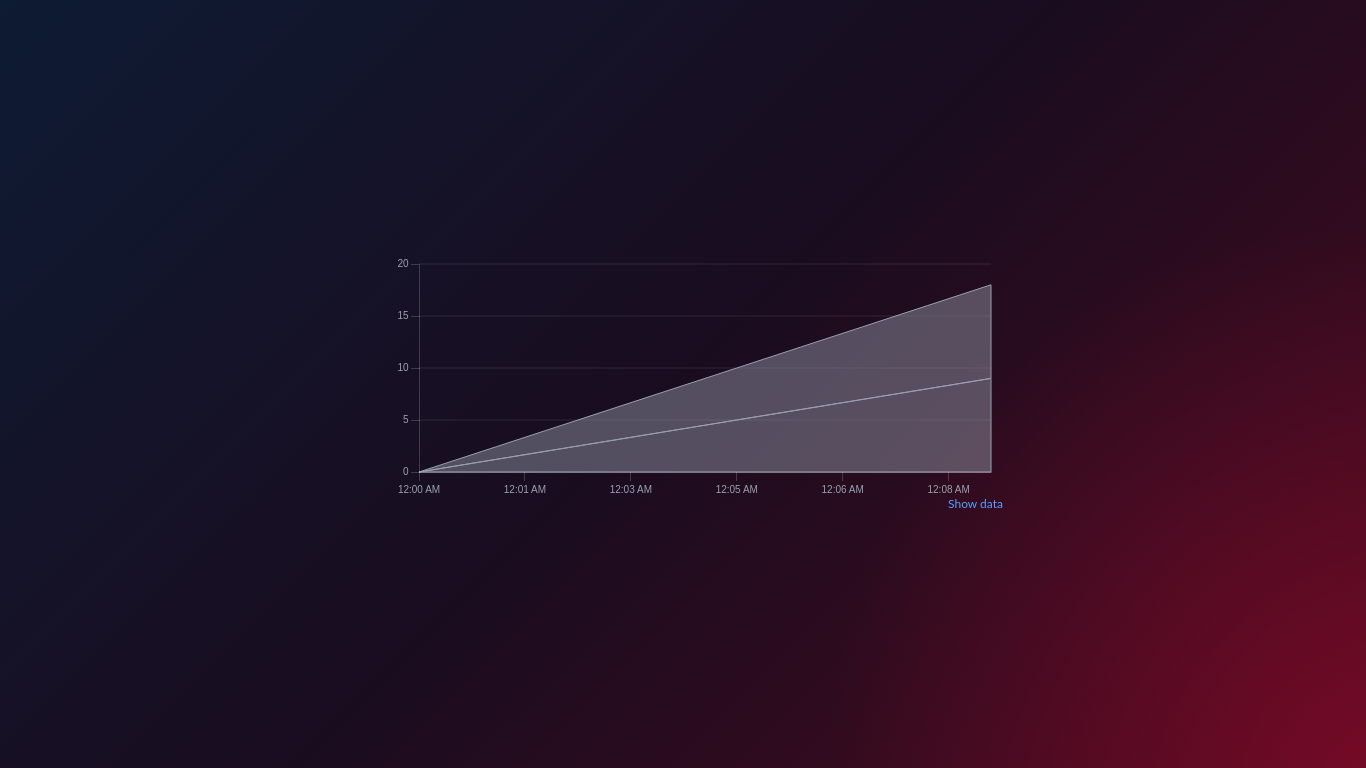
Test: charts › AreaChart reuses the time-series engine (reduced-motion safe, data table alternative)
Expected: the picture named "Traffic" is shown, [363,256,1003,496]
Step 1. Click the button "Show data" → [976, 504], box [948,496,1003,512]
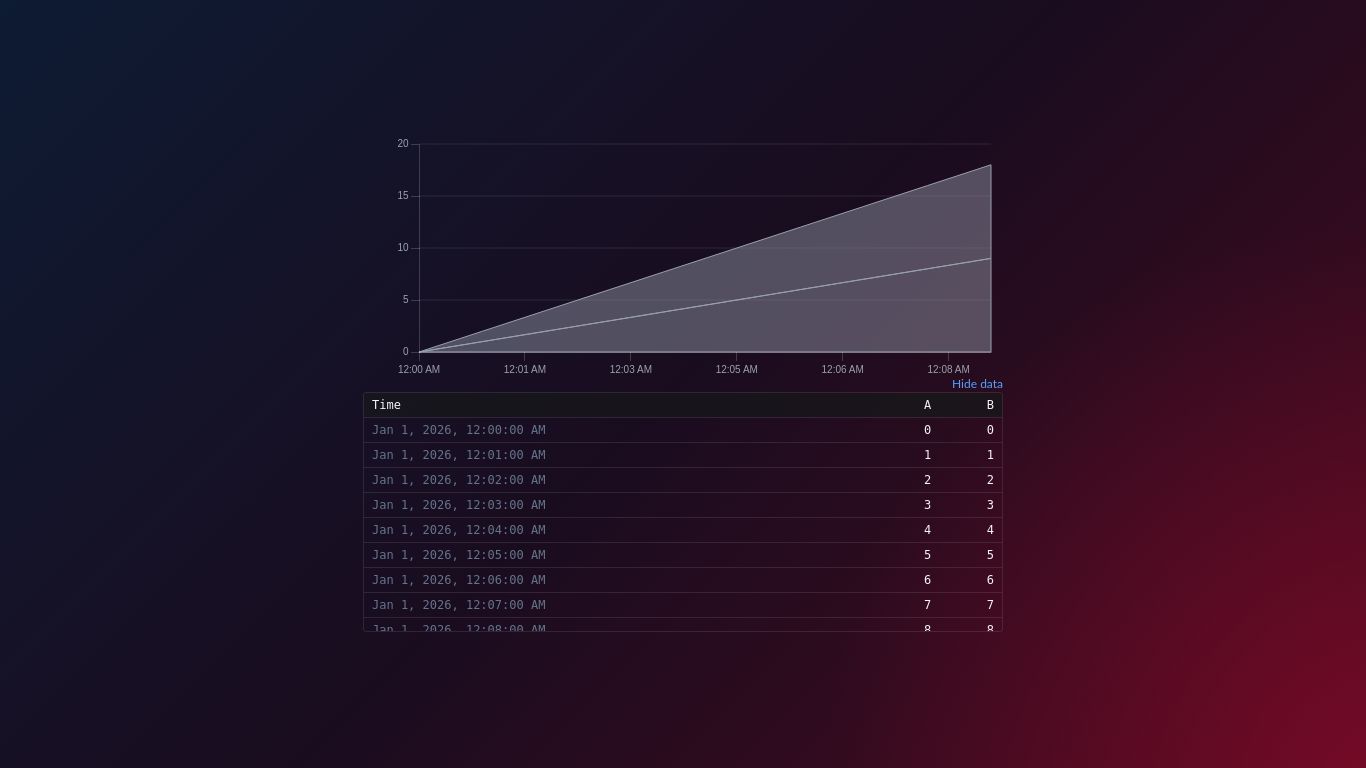
Now the table is shown, box [364,393,1002,632]
